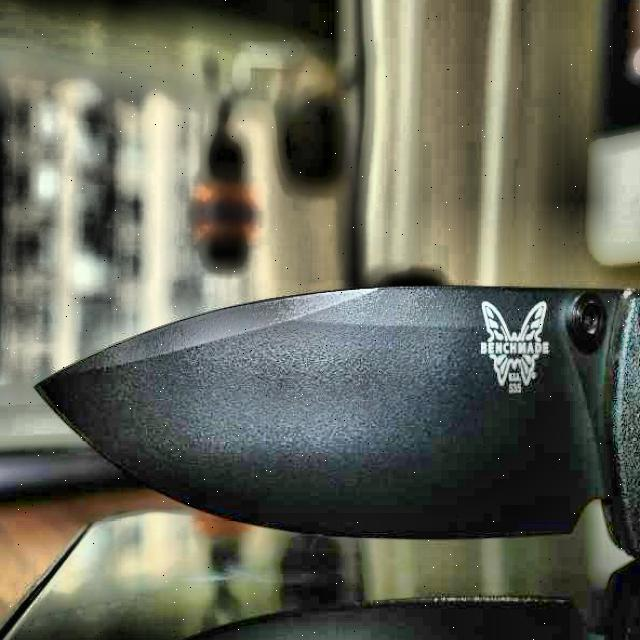knife: (30, 266, 640, 577)
